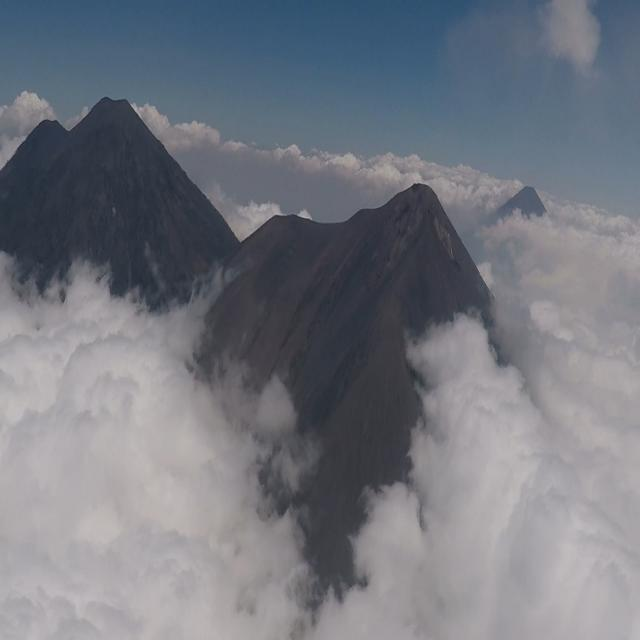Summit: (350, 175, 470, 269)
